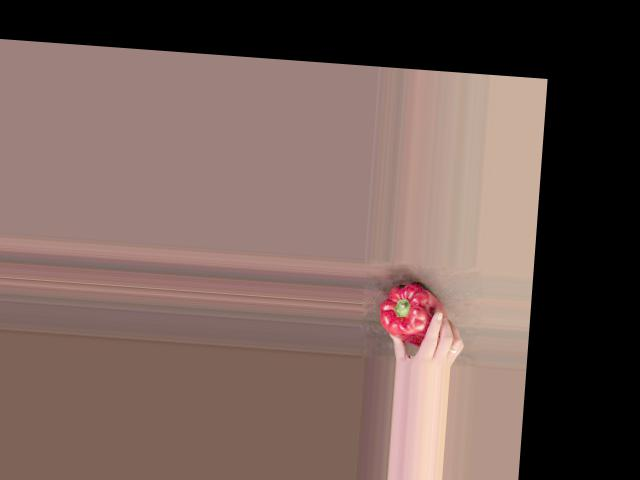bell_pepper: (376, 280, 442, 344)
